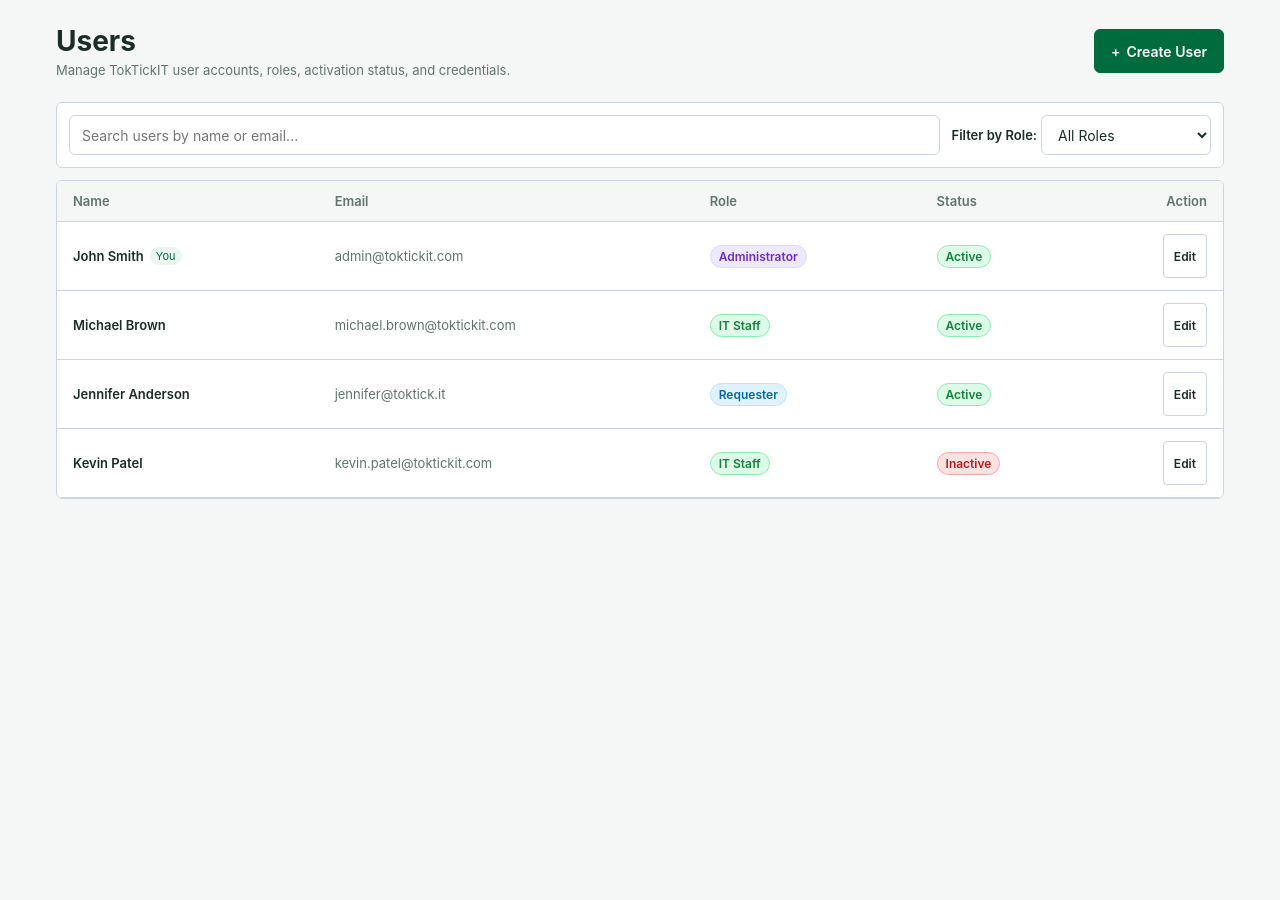
Test: UI-06 & UI-07: UserManagement Component Tests › UI-07: enables activation for INACTIVE users and supports activation confirmation modal
The width and height of the screenshot is (1280, 900).
Expected: the text "Kevin Patel" is shown, x1=73 y1=455 x2=143 y2=471
// Click Edit on Kevin Patel (id: 4, Inactive user)
Click the button with test id "edit-user-btn-4" at (1185, 463), box x1=1163 y1=441 x2=1207 y2=485
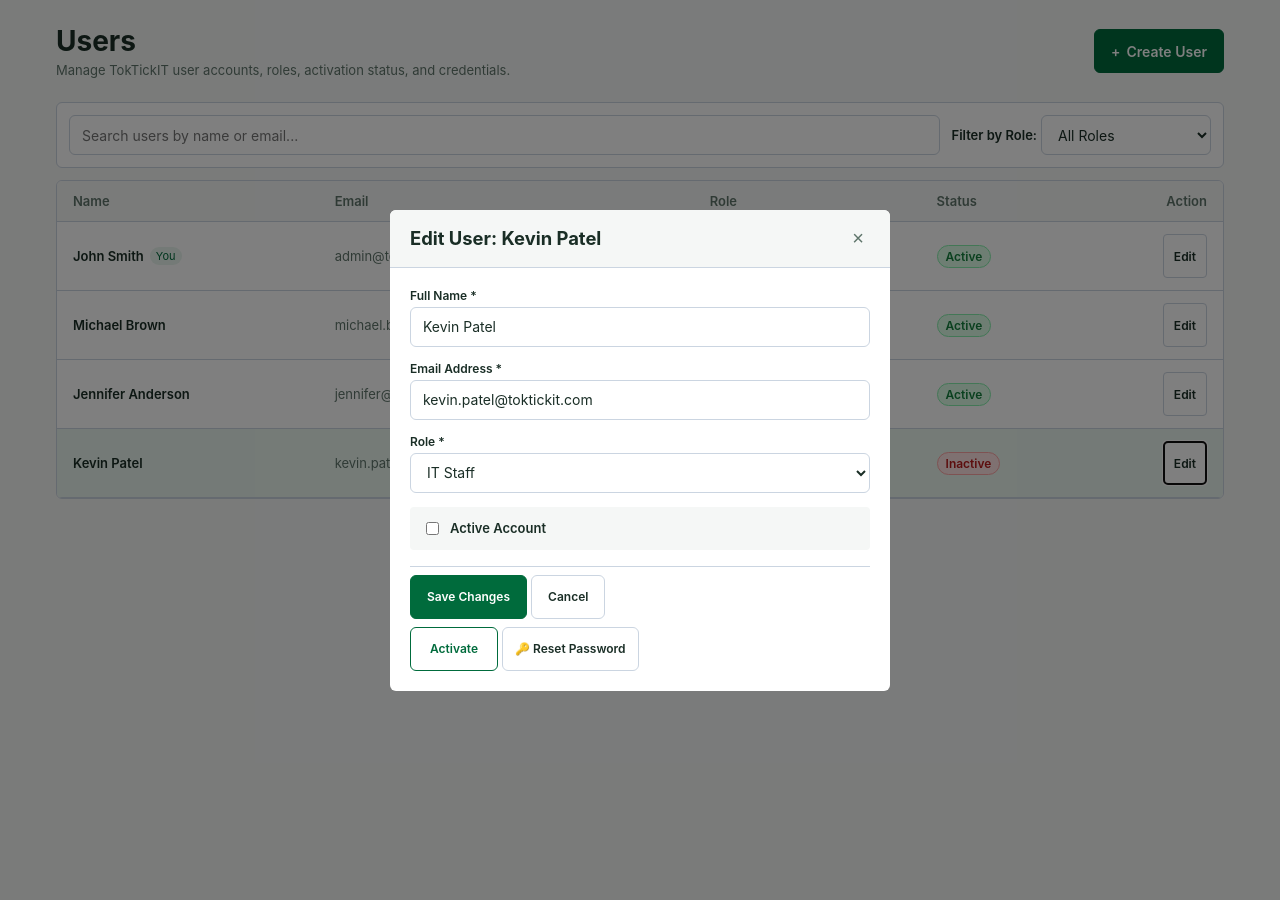
Expected: the element with test id "edit-user-modal" is shown
Expected: the button with test id "activate-user-btn" is shown
Expected: the button with test id "activate-user-btn" reads "Activate"
// Click Activate
Click the button with test id "activate-user-btn" at (454, 648), box x1=410 y1=626 x2=498 y2=670
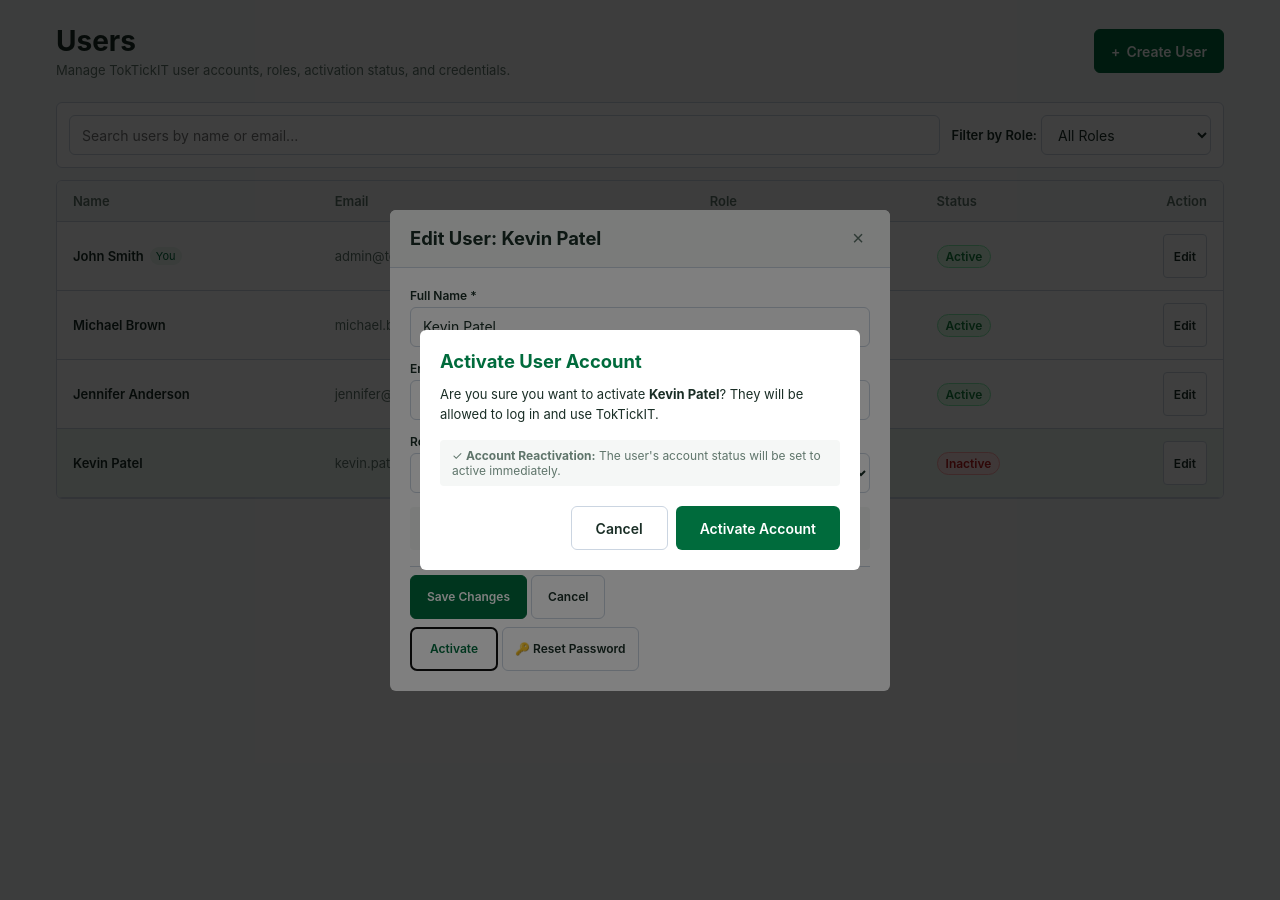
Expected: the element with test id "confirm-activate-modal" is shown
Expected: the element with test id "confirm-activate-modal" shows "Activate User Account", x1=440 y1=350 x2=642 y2=372
Expected: the element with test id "confirm-activate-modal" shows "Are you sure you want to activate", x1=440 y1=386 x2=649 y2=402
// Confirm activation
Click the button with test id "confirm-activate-btn" at (758, 528), box x1=676 y1=506 x2=840 y2=550
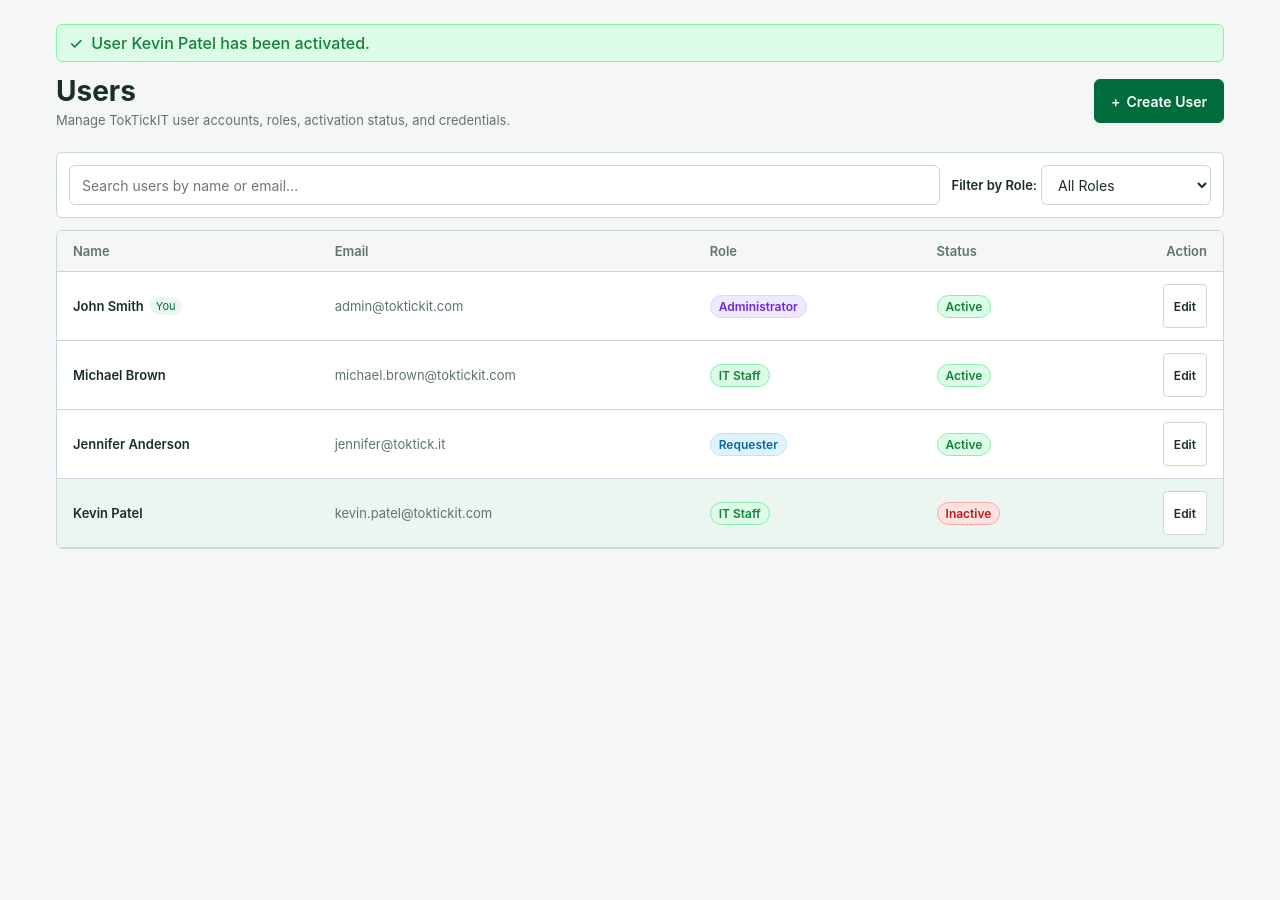
Expected: the element with test id "confirm-activate-modal" is gone
Expected: the element with test id "edit-user-modal" is gone
